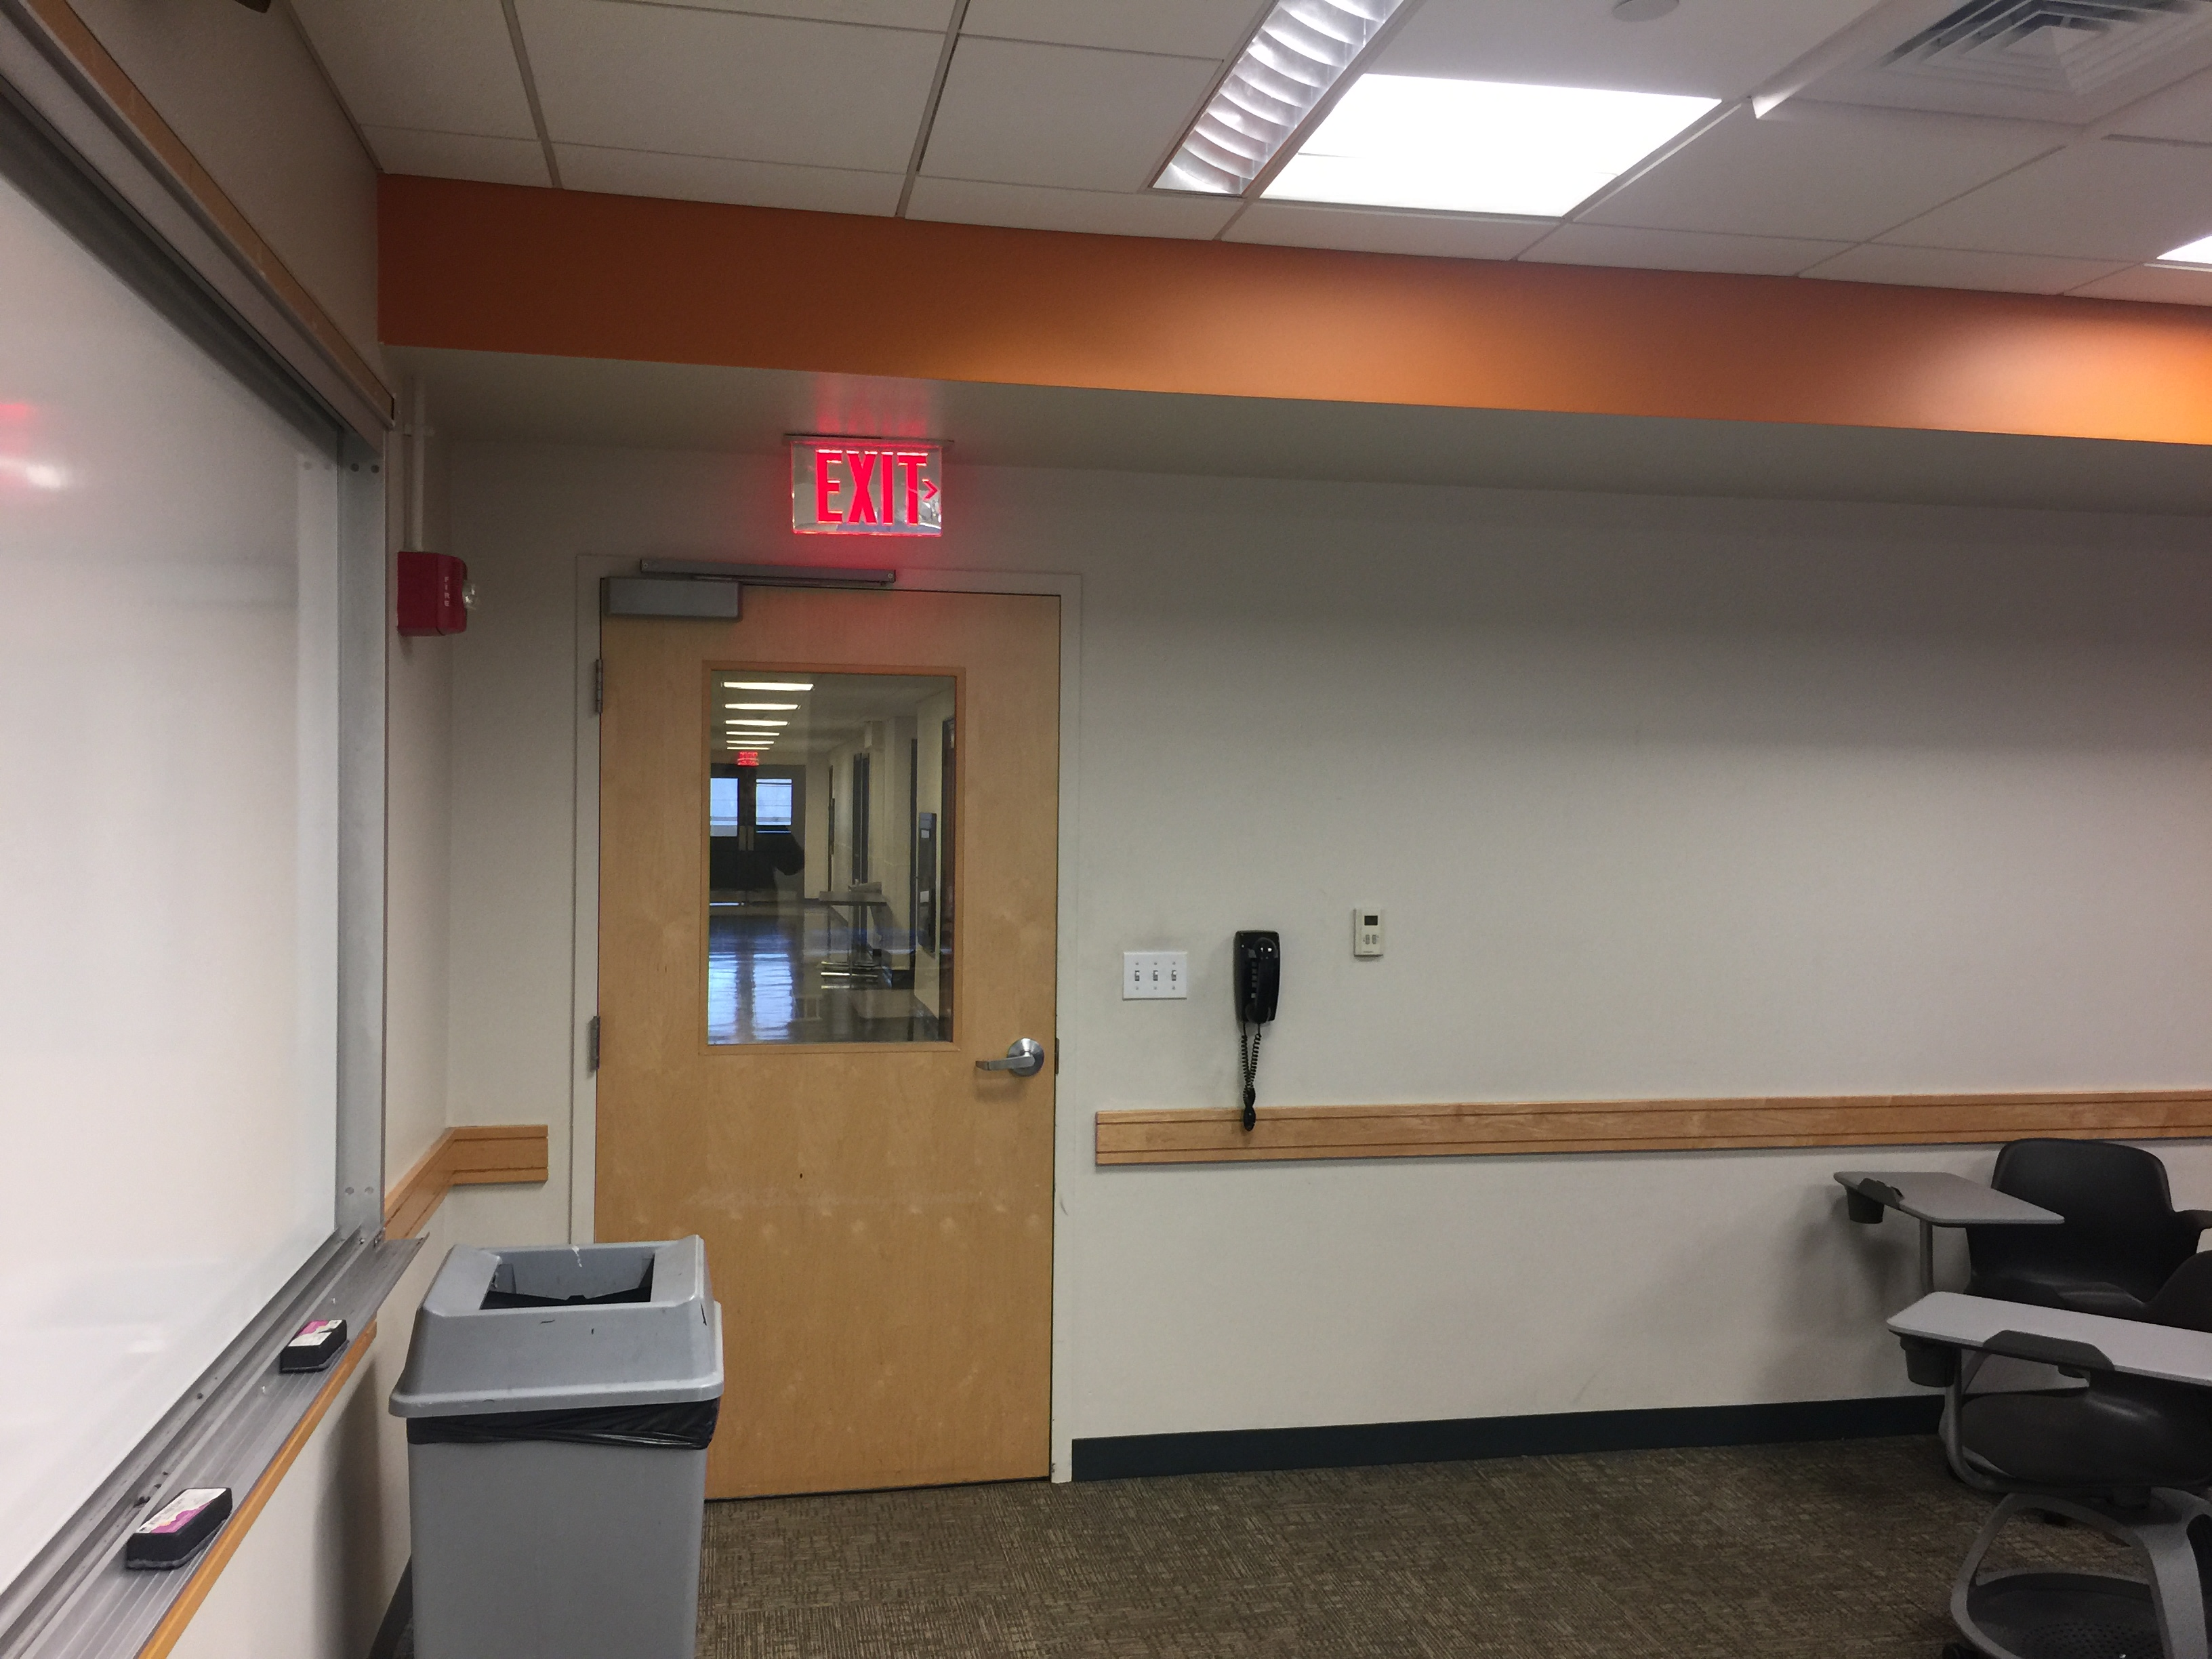exit sign: (787, 436, 949, 544)
